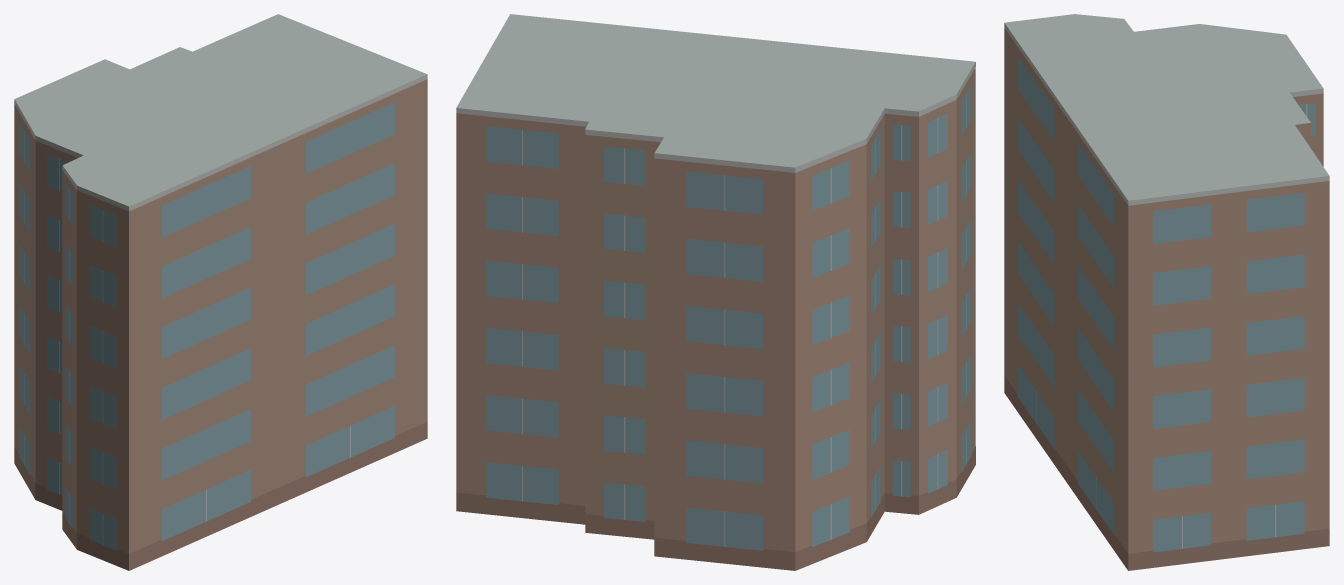
The model's file is survey-upis-32569586.glb.
3 renders of one model, left to right at view 1: azimuth 30°, elevation 25°; view 2: azimuth 150°, elevation 25°; view 3: azimuth 270°, elevation 25°, orthographic. The views are drawn at different scales.
Parts seen in each view (by area): view 1: survey-upis-32569586.tmp; view 2: survey-upis-32569586.tmp; view 3: survey-upis-32569586.tmp.
Part boxes in pixels (left/top/right/bottom): survey-upis-32569586.tmp: left=14, top=14, right=427, bottom=570; survey-upis-32569586.tmp: left=456, top=14, right=975, bottom=570; survey-upis-32569586.tmp: left=1004, top=14, right=1329, bottom=570.
Size of the model in its own units: 20.15 by 18.6 by 14.83.
